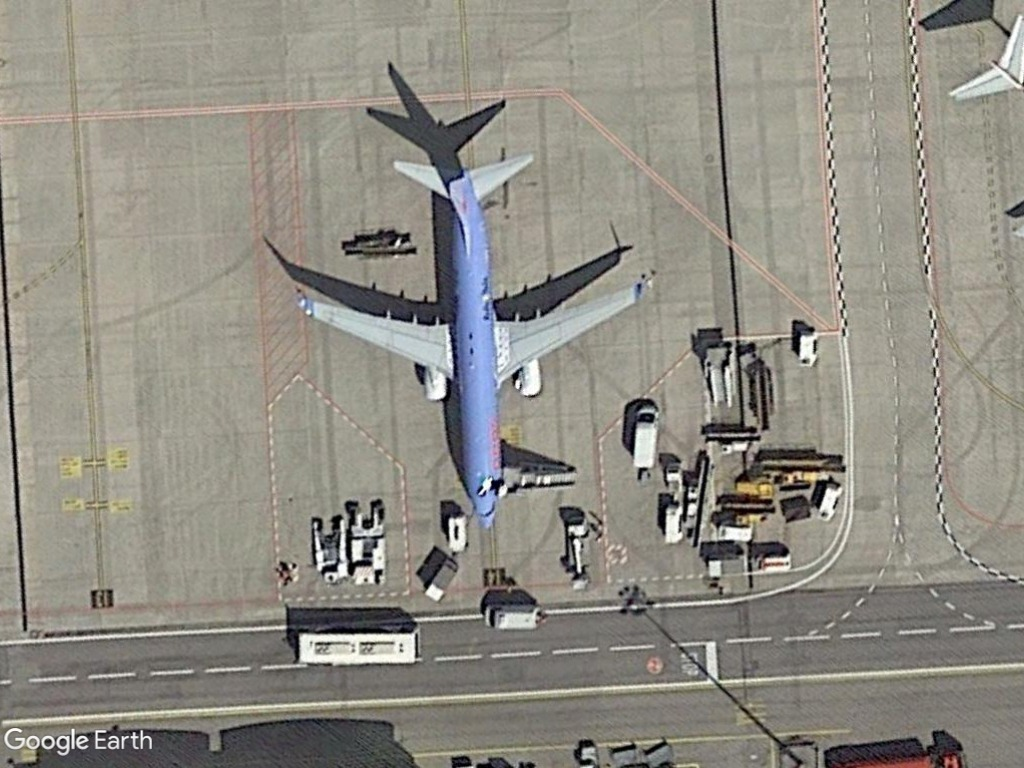airliner: (284, 149, 658, 529)
bus: (293, 622, 427, 667)
pushbacktruck: (341, 494, 392, 588), (307, 510, 352, 588)
stairtruck: (695, 339, 740, 413)
van: (626, 399, 662, 473), (479, 599, 545, 633)
